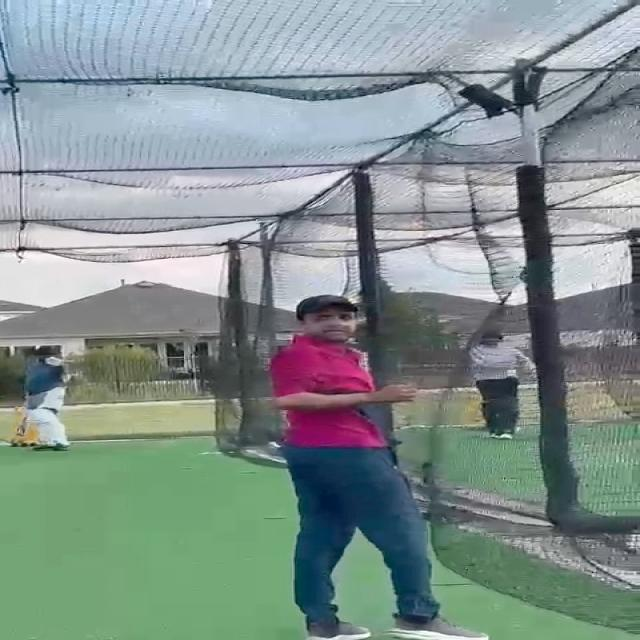batsman: (1, 345, 78, 454)
